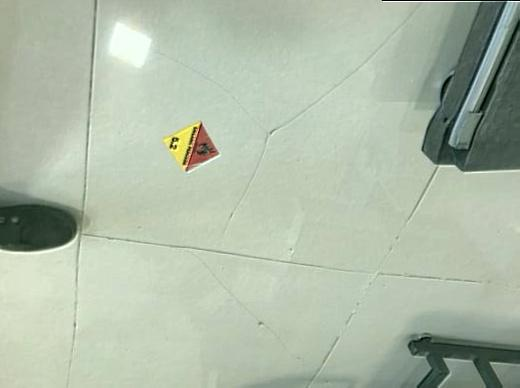organic-peroxide: (164, 120, 222, 174)
